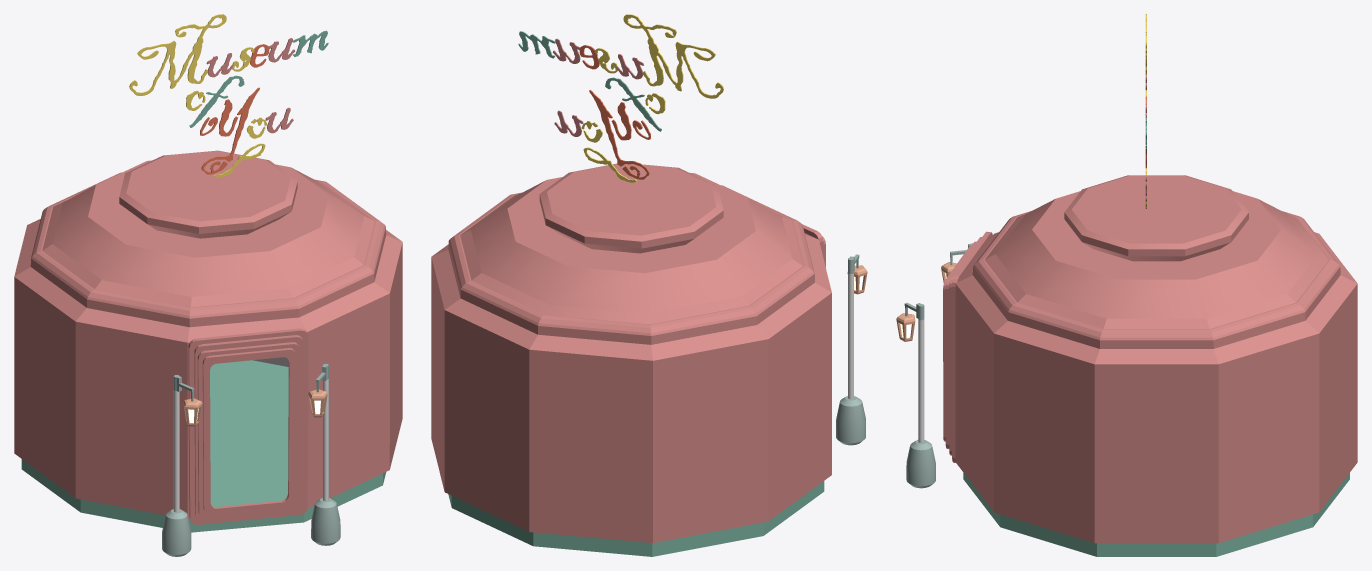
The model's file is MuseumofYouPortal.glb.
3 renders of one model, left to right at view 1: azimuth 30°, elevation 25°; view 2: azimuth 150°, elevation 25°; view 3: azimuth 270°, elevation 25°, orthographic. The views are drawn at different scales.
Parts seen in each view (by area): view 1: PortalHouse, MuseumofYouText, StreetLight; view 2: PortalHouse, MuseumofYouText, StreetLight; view 3: PortalHouse, StreetLight.
Part boxes in pixels (left/top/right/bottom): PortalHouse: left=14, top=150, right=402, bottom=532; MuseumofYouText: left=129, top=14, right=328, bottom=177; StreetLight: left=162, top=363, right=340, bottom=556; PortalHouse: left=431, top=163, right=831, bottom=556; MuseumofYouText: left=518, top=14, right=723, bottom=182; StreetLight: left=836, top=254, right=867, bottom=445; PortalHouse: left=943, top=175, right=1357, bottom=556; StreetLight: left=896, top=243, right=973, bottom=488.
Size of the model in its own units: 61.27 by 79.53 by 73.95.
